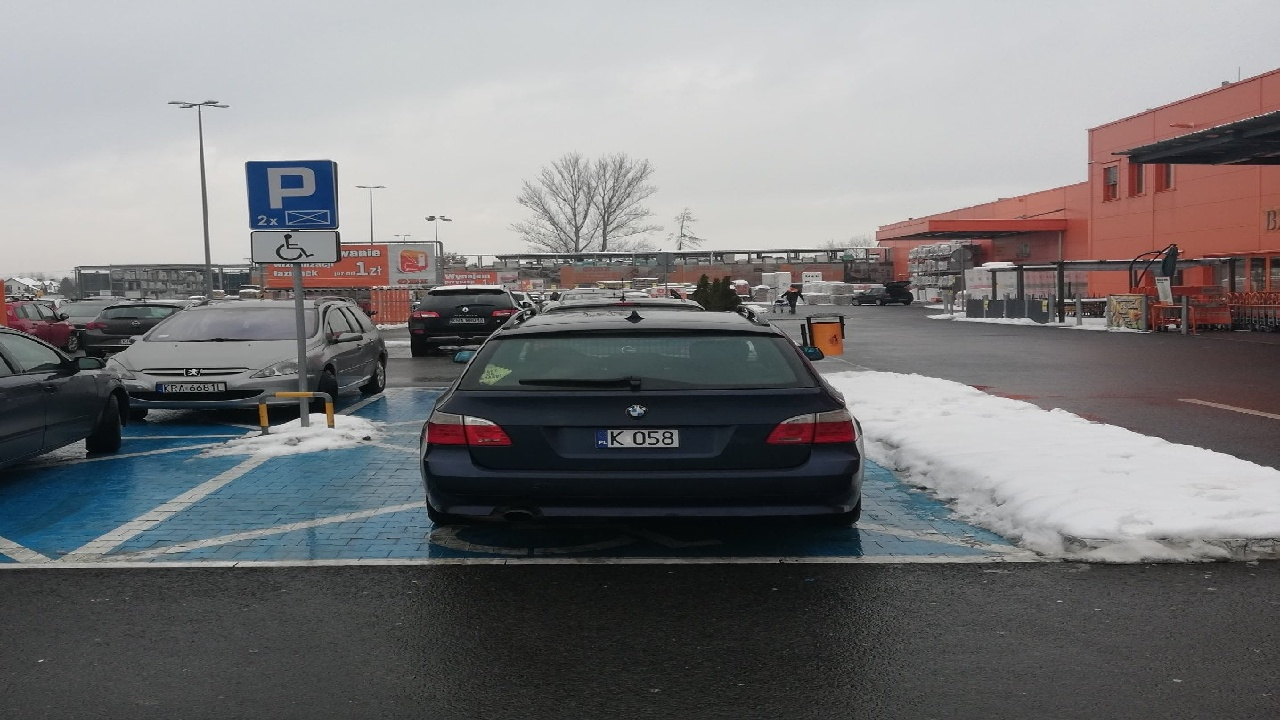D18: (246, 159, 339, 227)
